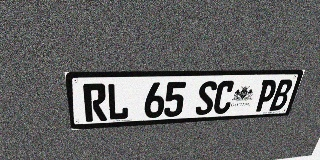5: (164, 82, 186, 117)
6: (144, 82, 166, 118)
B: (269, 79, 294, 111)
C: (212, 80, 236, 114)
L: (107, 83, 129, 120)
P: (254, 80, 279, 112)
R: (83, 83, 107, 122)
S: (195, 81, 218, 115)
